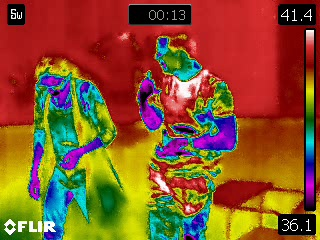human: (138, 29, 245, 240), (25, 54, 118, 240)
